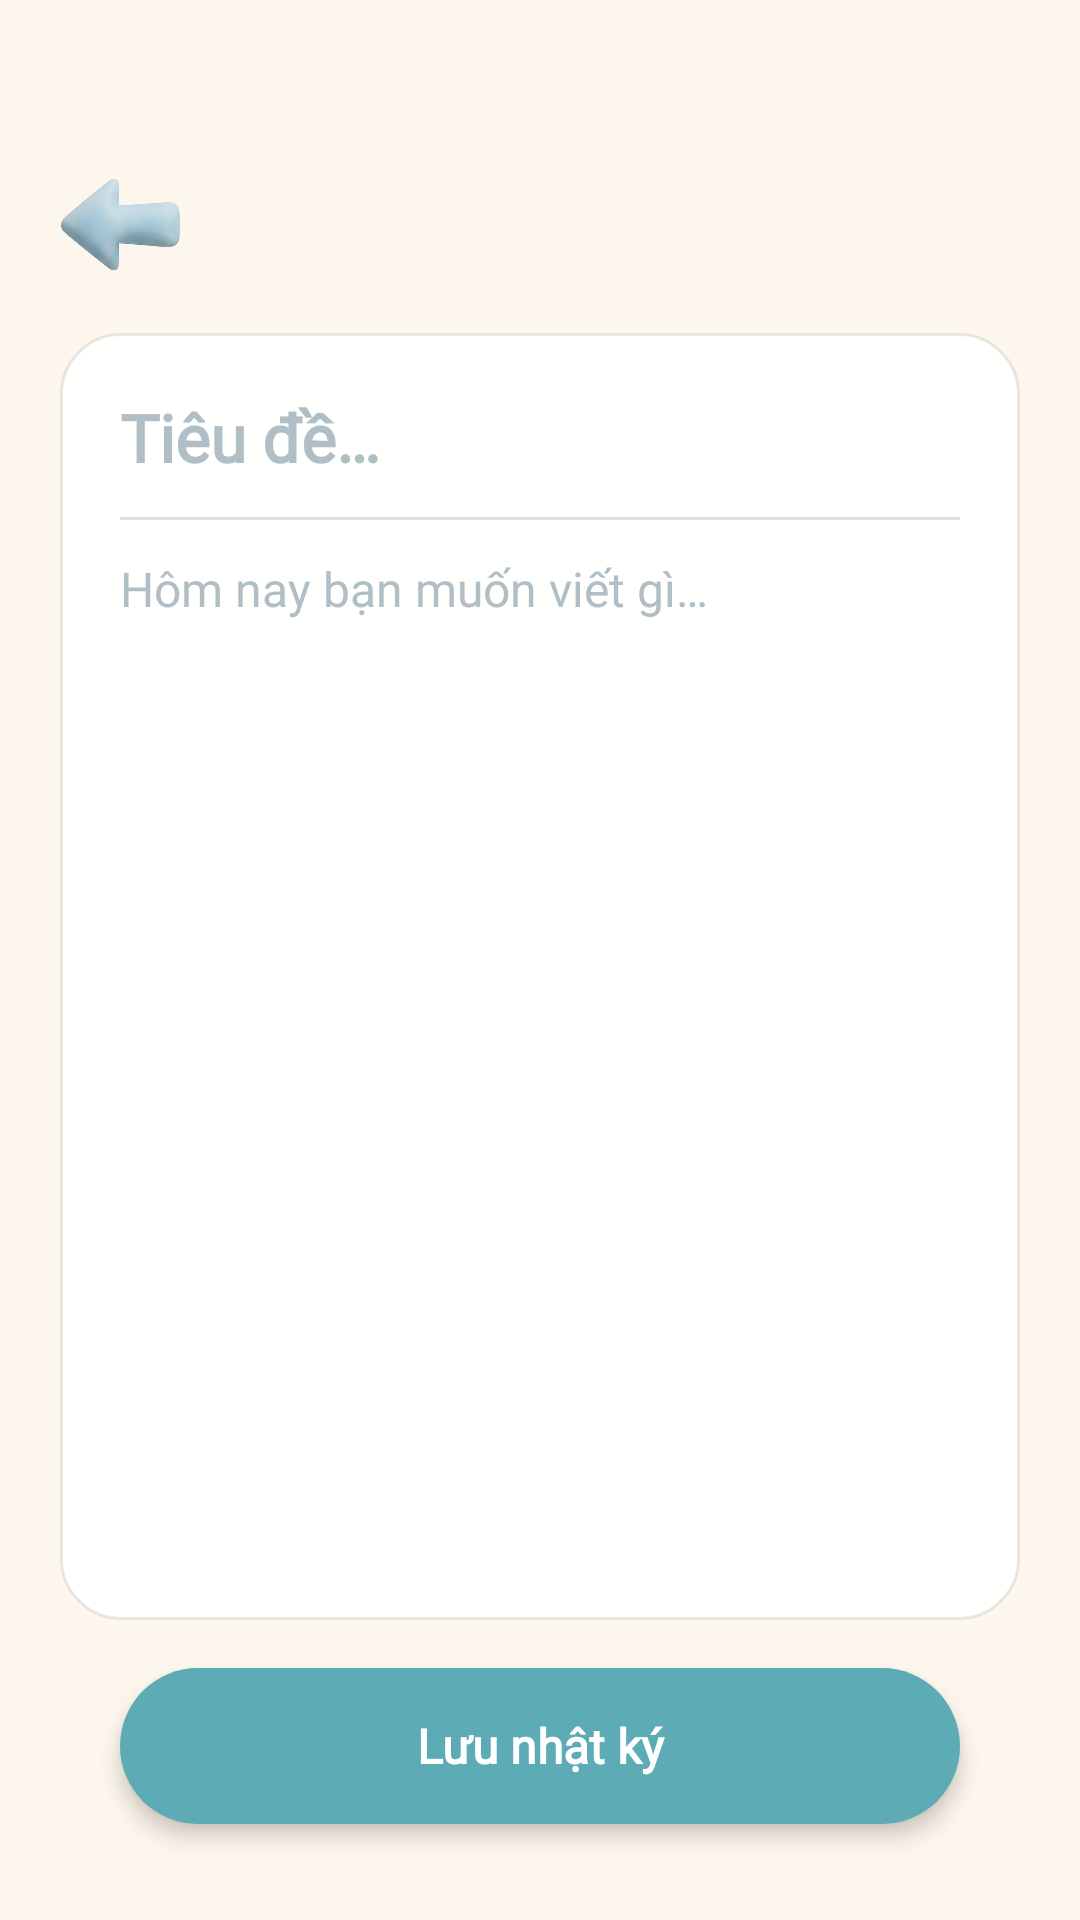

Where to tap for icons on this 1080px×1920px app screen, as (x,y):
back: (120,225)
